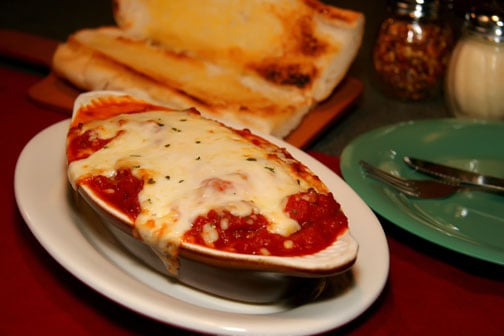sandwich: (402, 155, 504, 194)
